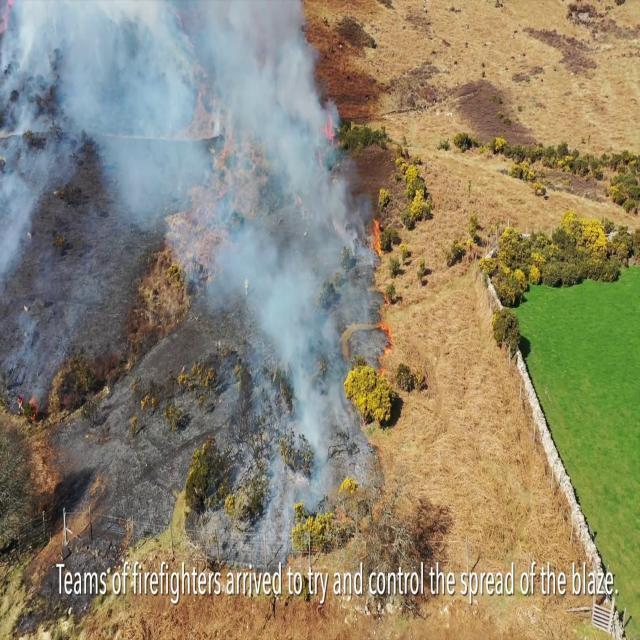Fire: (369, 218, 382, 263), (380, 321, 395, 359)
Smoke: (201, 2, 370, 265), (5, 0, 199, 226), (233, 233, 372, 495)
